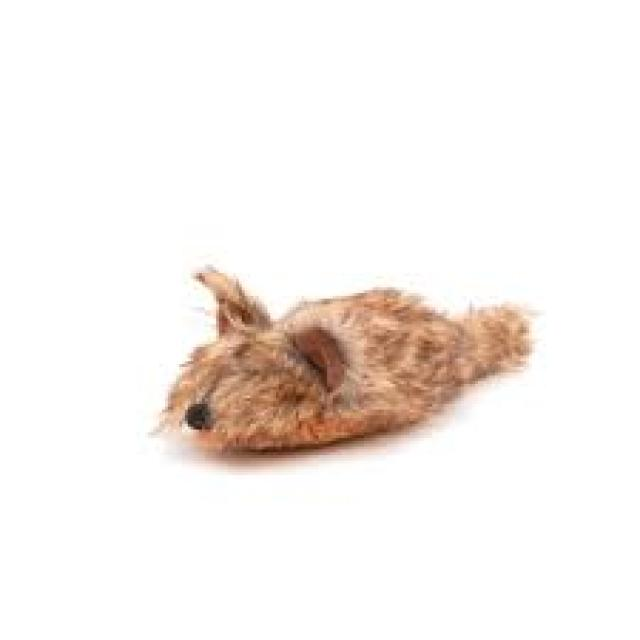rat: (148, 262, 535, 452)
